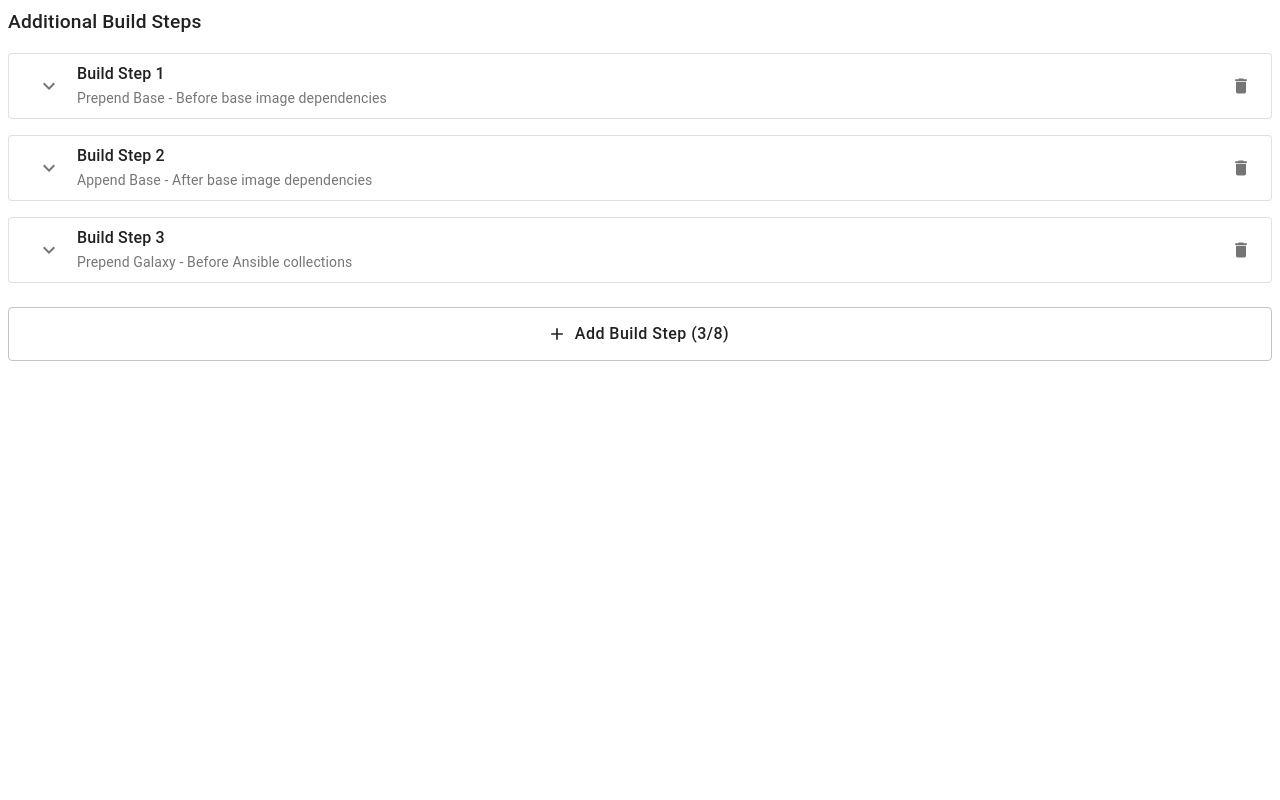
Test: AdditionalBuildStepsPickerExtension › Changing Step Types › shows only available step types in dropdown
This screenshot has width=1280, height=800.
Step 1. Click the button "Build Step 1 Prepend Base - Before base image dependencies" → (116, 74), box [9,54,1271,118]
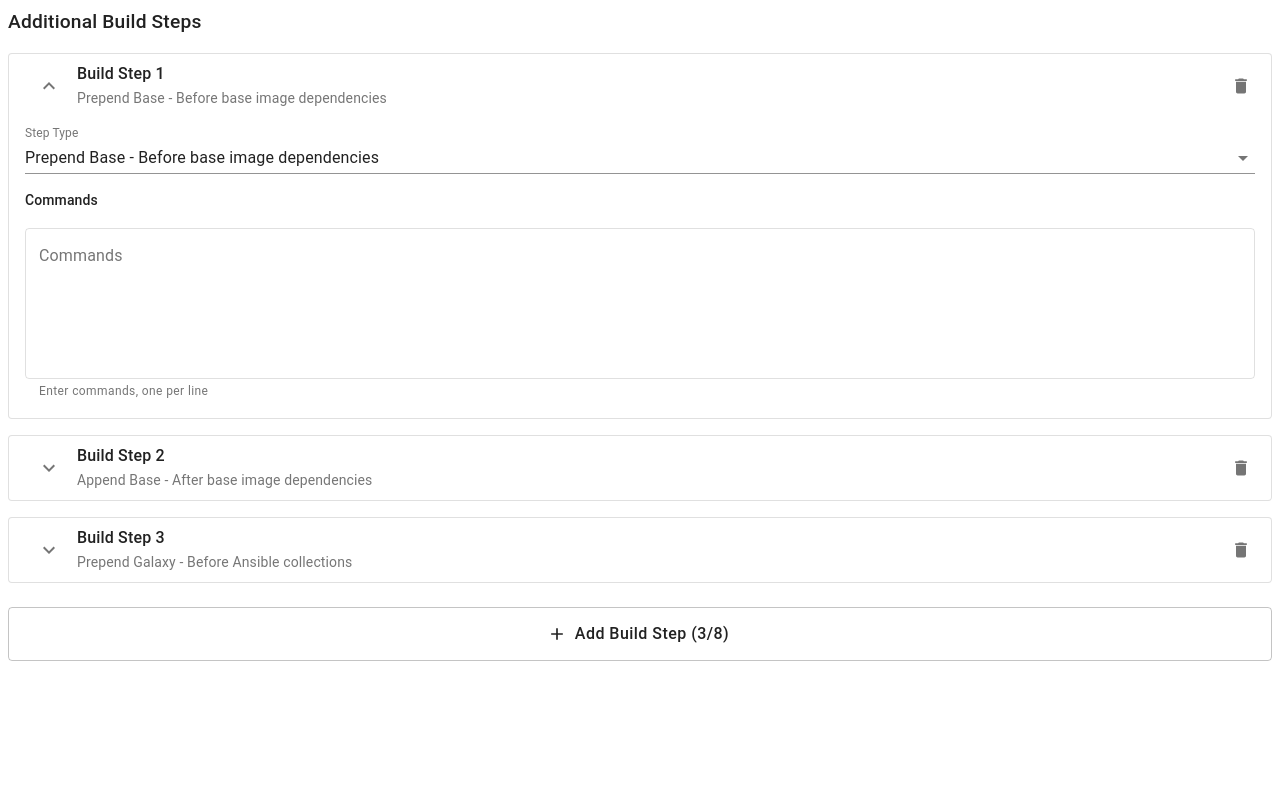
Step 2. Press the mouse on the button "Prepend Base - Before base image dependencies" → (202, 157), box [25,148,379,167]
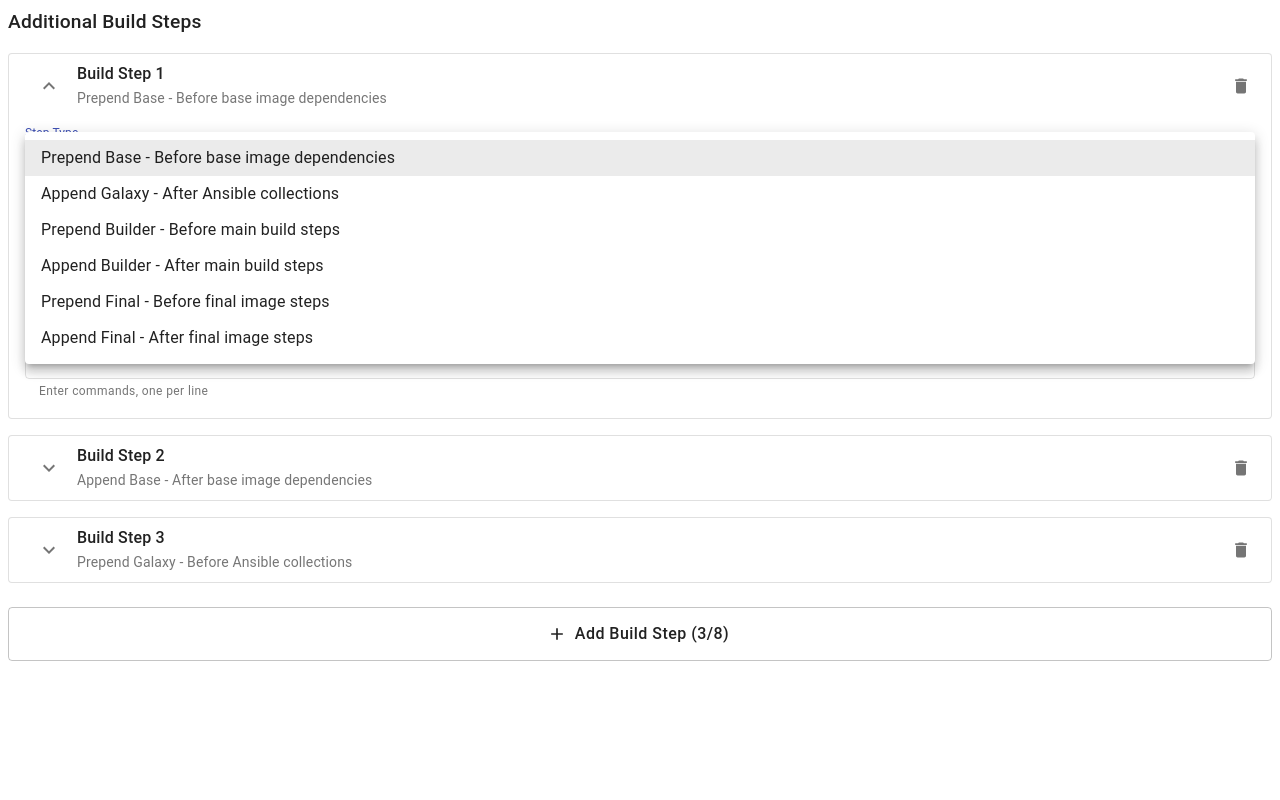
Expected: the text "Prepend Base - Before base image dependencies" is shown, [77,90,387,106]
Now the option "Append Galaxy - After Ansible collections" is shown, box [41,184,339,203]
Now the option "Prepend Builder - Before main build steps" is shown, box [41,220,340,239]
